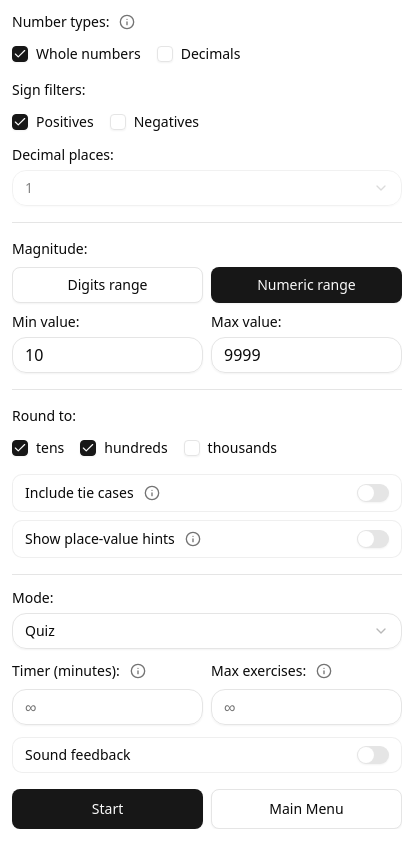
RoundingTrainerSetupScreen › allows magnitude values to be cleared and replaced with safe blur fallbacks
The image size is (414, 856).
Clear the field labelled "Min value" at (108, 355), box [12, 337, 203, 373]
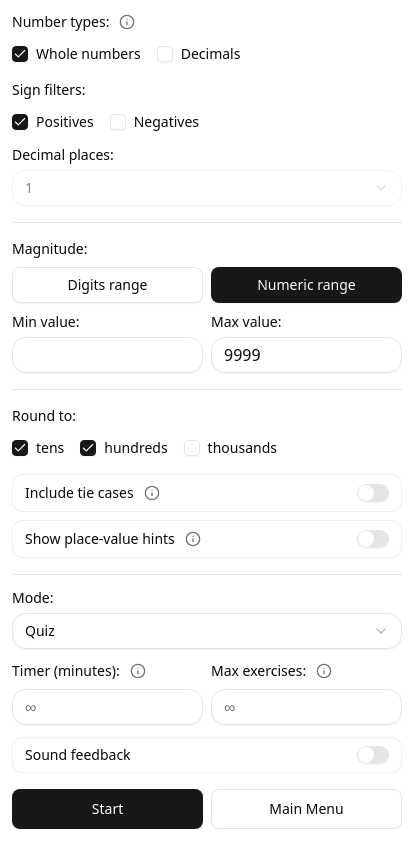
Type "25" into the field labelled "Min value" at (108, 355), box [12, 337, 203, 373]
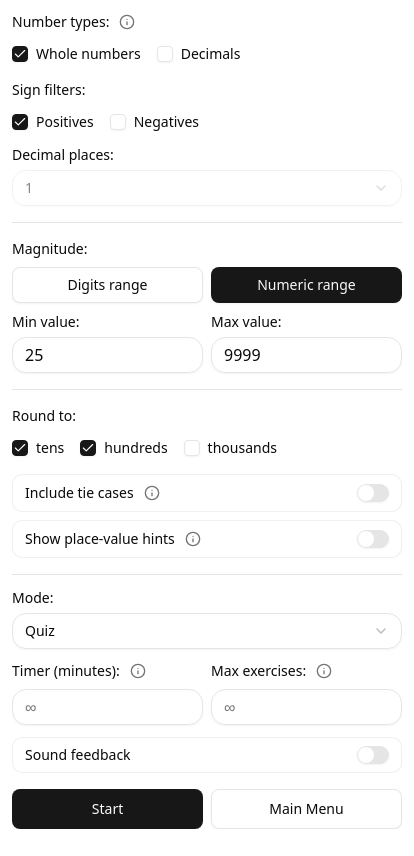
Clear the field labelled "Max value" at (306, 355), box [211, 337, 402, 373]
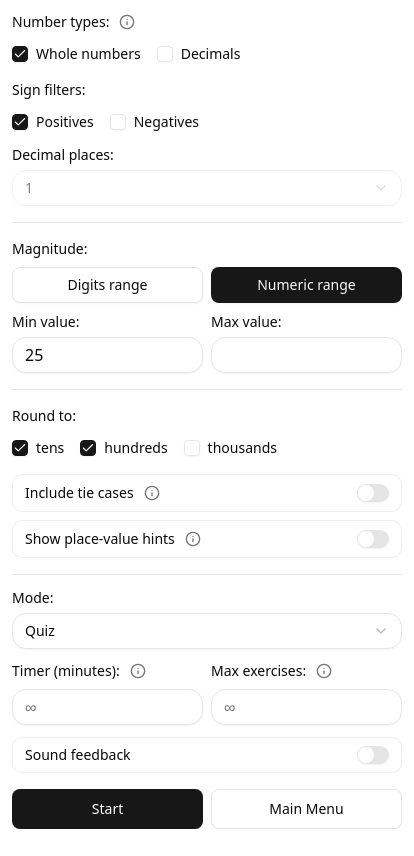
Leave the field labelled "Max value", box [211, 337, 402, 373]
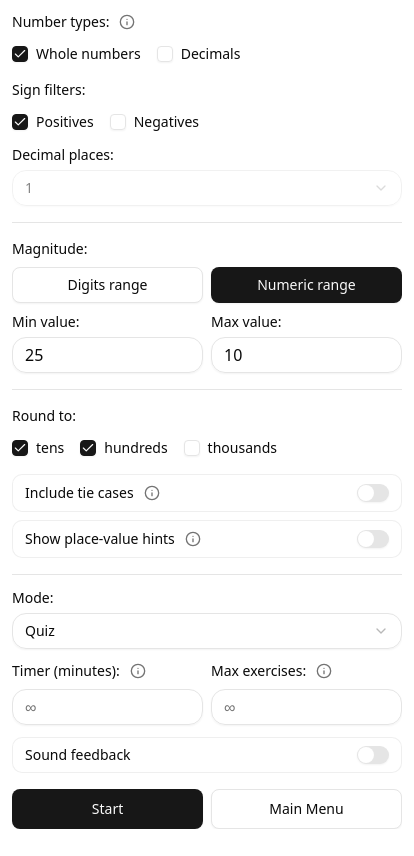
Expected: the field labelled "Max value" holds "10", [211, 337, 402, 373]
